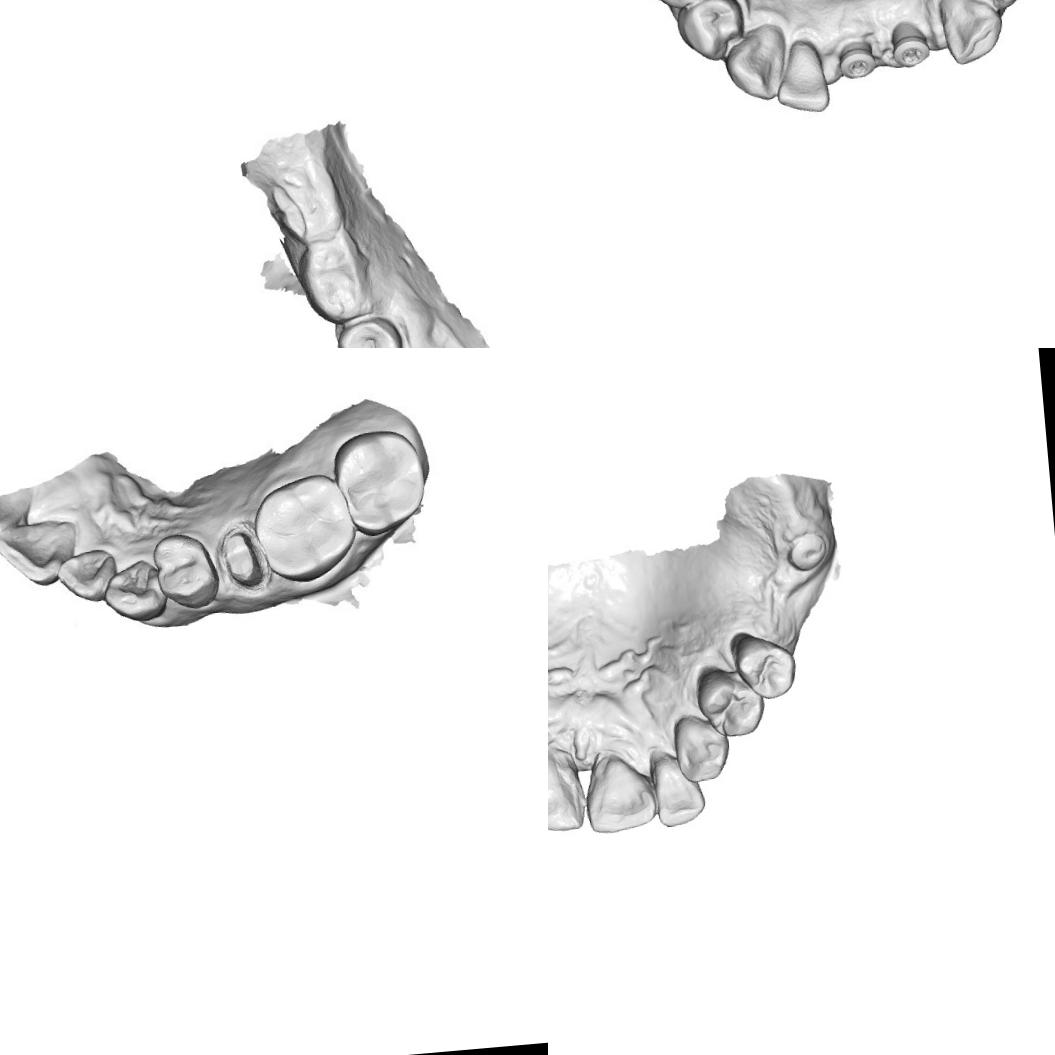canine: (724, 24, 788, 98), (667, 714, 732, 784), (936, 0, 1008, 60), (106, 560, 166, 620)
crown: (216, 524, 269, 594)
implant: (780, 526, 834, 574)
implant_minus: (882, 10, 938, 81), (834, 27, 883, 86)
incisor: (576, 749, 660, 836), (0, 514, 77, 587), (772, 33, 834, 110), (645, 758, 708, 830), (60, 544, 120, 604), (548, 752, 585, 839)
molar: (253, 471, 356, 584), (328, 423, 428, 536)
premolar: (692, 663, 768, 744), (151, 528, 221, 610), (729, 628, 798, 702), (676, 0, 746, 58)
